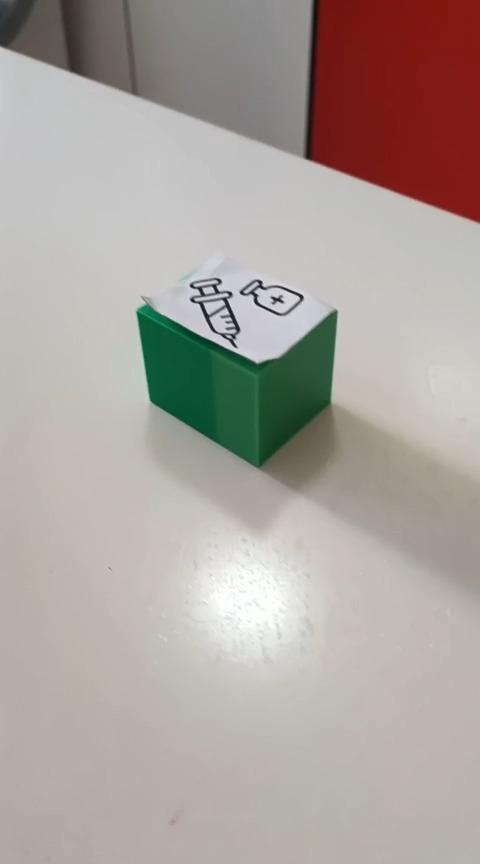antiseptic cream: (134, 249, 339, 468)
